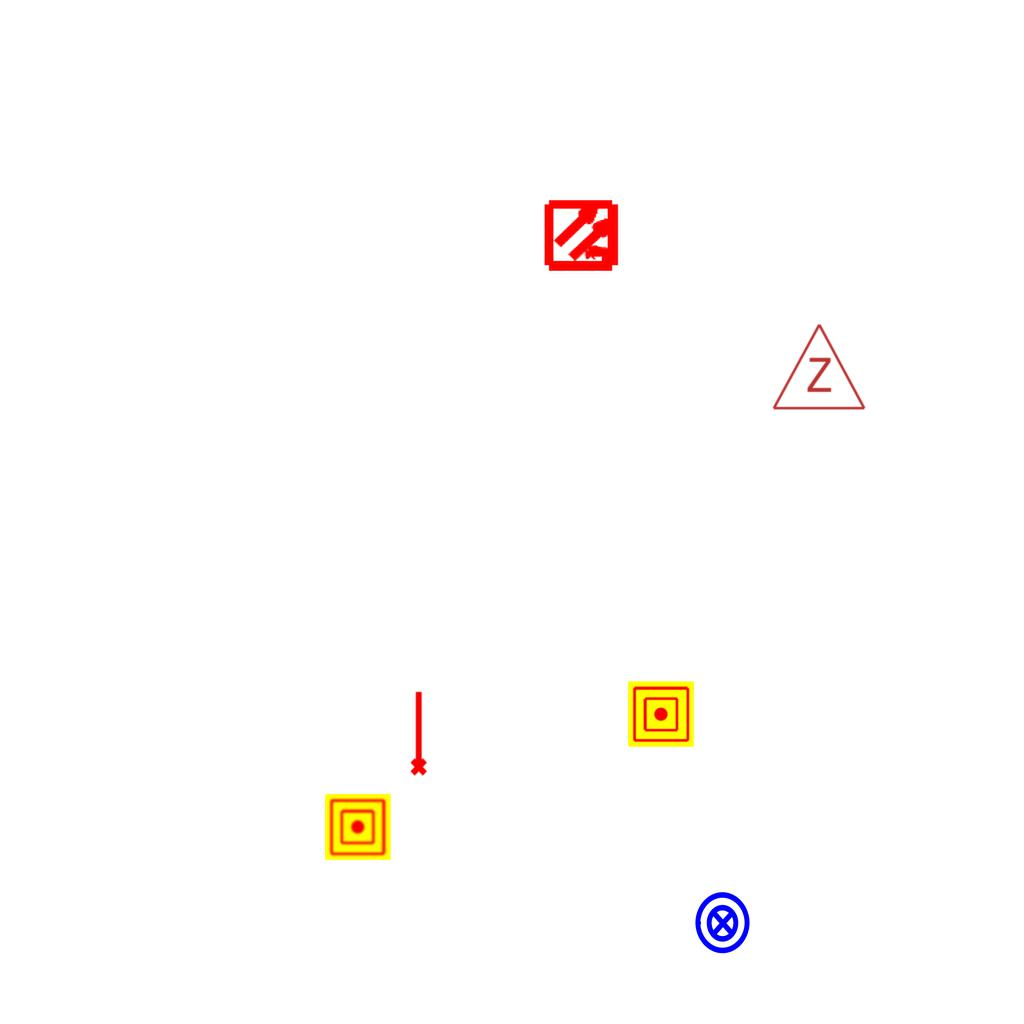ASR_Ansaugoeffnung: (406, 689, 429, 777)
NAM-Nichtautomatischer_Melder: (628, 681, 694, 747), (325, 794, 391, 860)
OT_Multisensormelder_(Kombination_RMO_WMD): (527, 179, 640, 292)
Taster_beleuchtet: (690, 890, 756, 956)
Zimmersignalleuchte: (769, 317, 867, 417)
